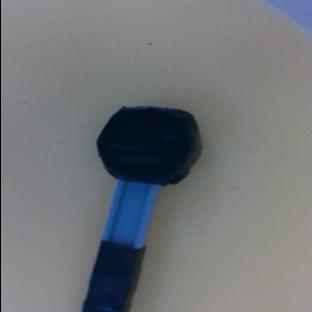part_3_bad: (78, 102, 205, 312)
